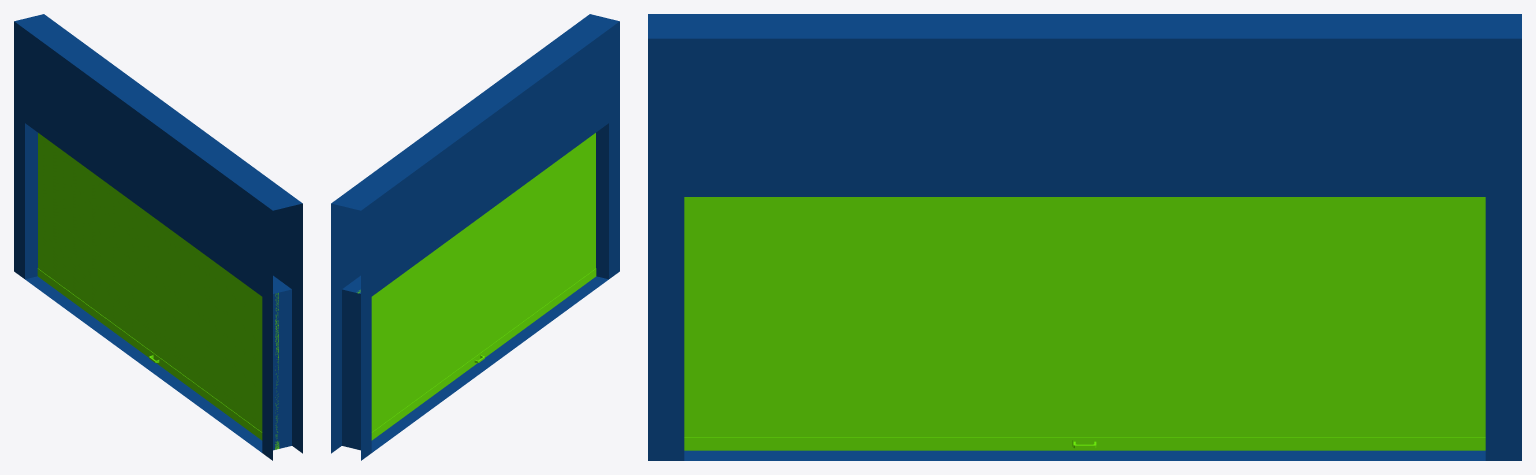
File: Door_Garage01.fbx
3 views of the same model, side by side, from view 1: azimuth 30°, elevation 25°; view 2: azimuth 150°, elevation 25°; view 3: azimuth 270°, elevation 25° (orthographic). The views are drawn at different scales.
Visible parts, largest first — view 1: Door_Garage01, G_Door01; view 2: Door_Garage01, G_Door01; view 3: G_Door01, Door_Garage01.
Boxes of the visible parts, left/top/right/bottom form: Door_Garage01: left=14, top=14, right=302, bottom=460; G_Door01: left=37, top=133, right=279, bottom=449; Door_Garage01: left=331, top=14, right=619, bottom=460; G_Door01: left=357, top=133, right=596, bottom=440; G_Door01: left=684, top=197, right=1485, bottom=450; Door_Garage01: left=648, top=14, right=1521, bottom=460.
Bounding box in the file's own units: 40 × 320 × 600.
